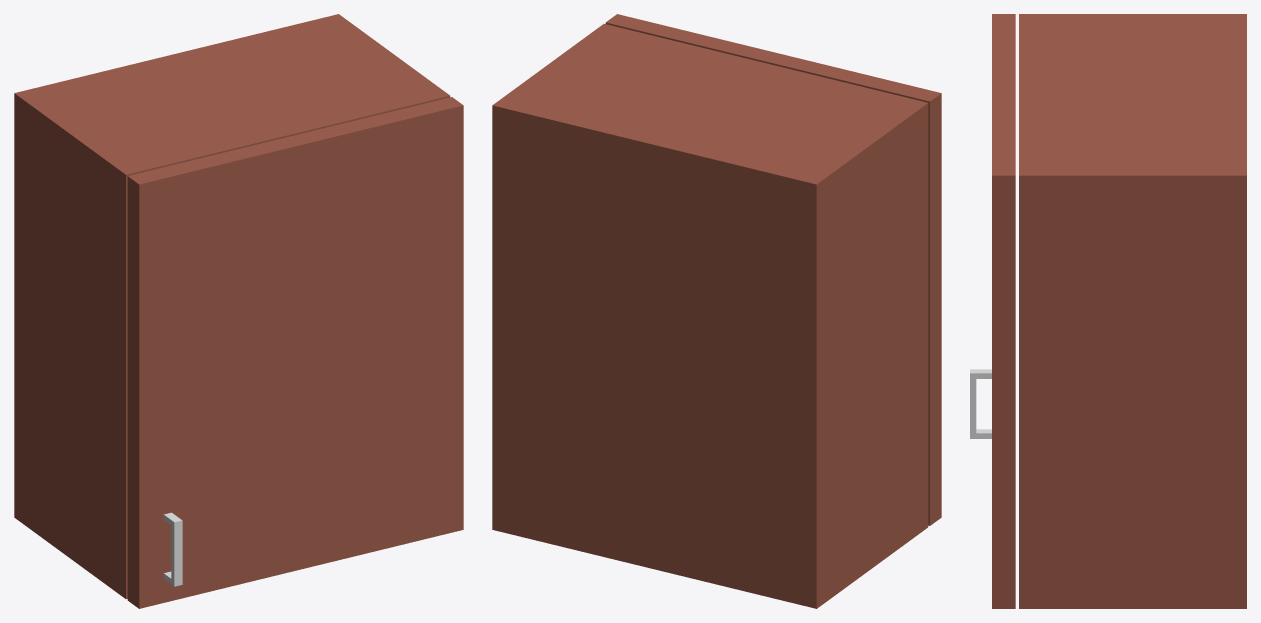
The model's file is SM_cabinet_kitchen.fbx.
3 renders of one model, left to right at view 1: azimuth 30°, elevation 25°; view 2: azimuth 150°, elevation 25°; view 3: azimuth 270°, elevation 25°, orthographic. The views are drawn at different scales.
Parts seen in each view (by area): view 1: Cube.020, Plane.046; view 2: Cube.020; view 3: Cube.020, Plane.046.
Part boxes in pixels (<box>): Cube.020: <box>14,14,463,608</box>; Plane.046: <box>163,512,182,586</box>; Cube.020: <box>492,14,941,608</box>; Cube.020: <box>992,14,1246,608</box>; Plane.046: <box>970,369,991,438</box>.
Bounding box in the file's own units: 60 × 75 × 43.45.
